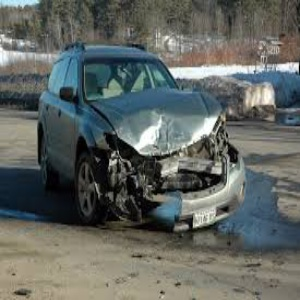bonnet: (116, 97, 217, 155)
bumper: (103, 152, 250, 234)
